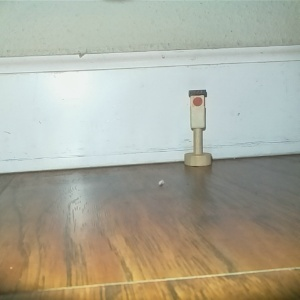traffic light red: (181, 88, 215, 168)
